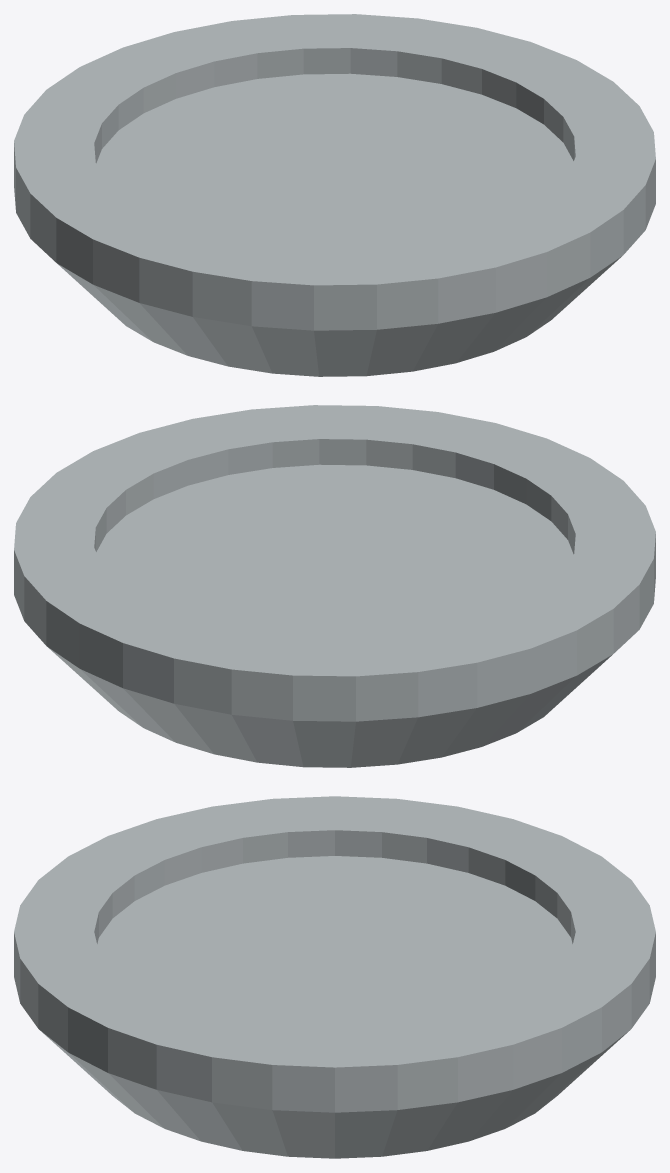
The model's file is CasingBottom.glb.
3 views of the same model, one above another, from view 1: azimuth 30°, elevation 25°; view 2: azimuth 150°, elevation 25°; view 3: azimuth 270°, elevation 25° (orthographic).
Visible parts, largest first — view 1: Bottom; view 2: Bottom; view 3: Bottom.
Boxes of the visible parts, x1,y1,x2,y2 form: Bottom: (14, 14, 655, 376); Bottom: (14, 405, 655, 767); Bottom: (14, 796, 655, 1158).
Bounding box in the file's own units: 2.93 × 0.6307 × 2.93.
1 material, 1 textured.
